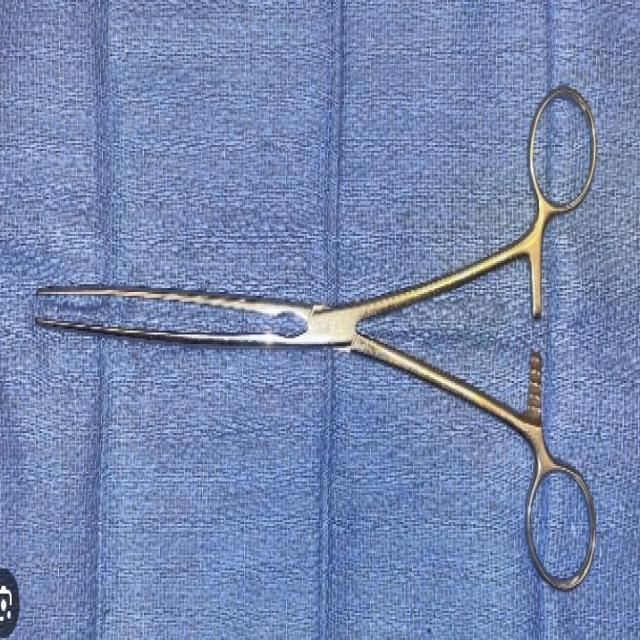Doyel Instestinal Forceps: (32, 81, 599, 594)
